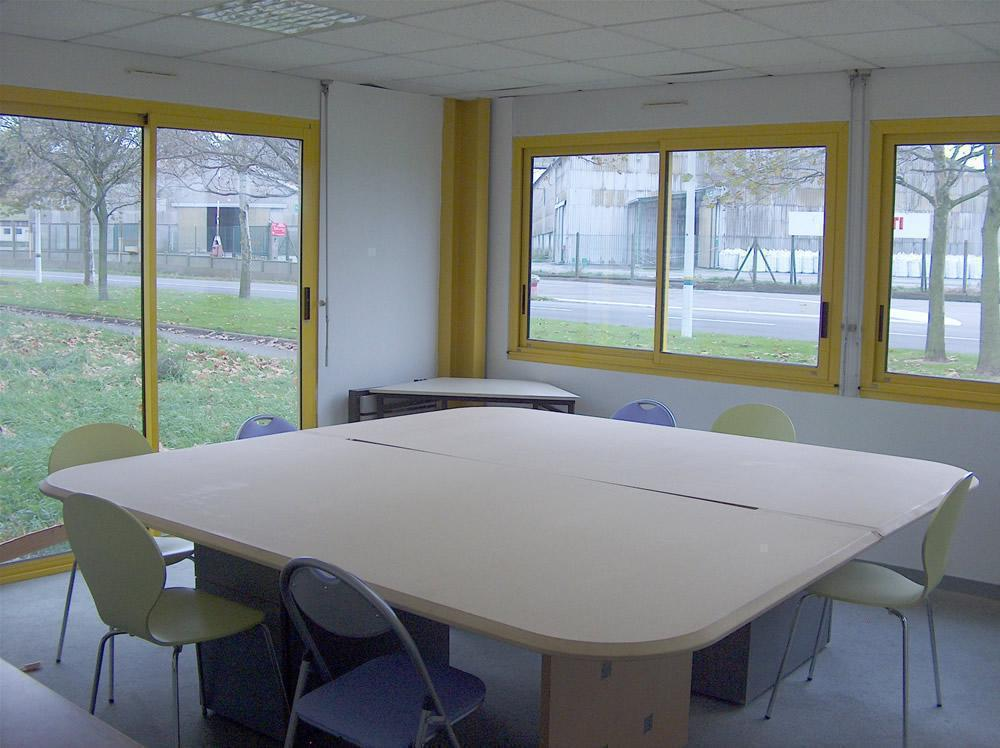Puerta: (148, 116, 315, 414)
Ventana: (520, 137, 831, 386)
